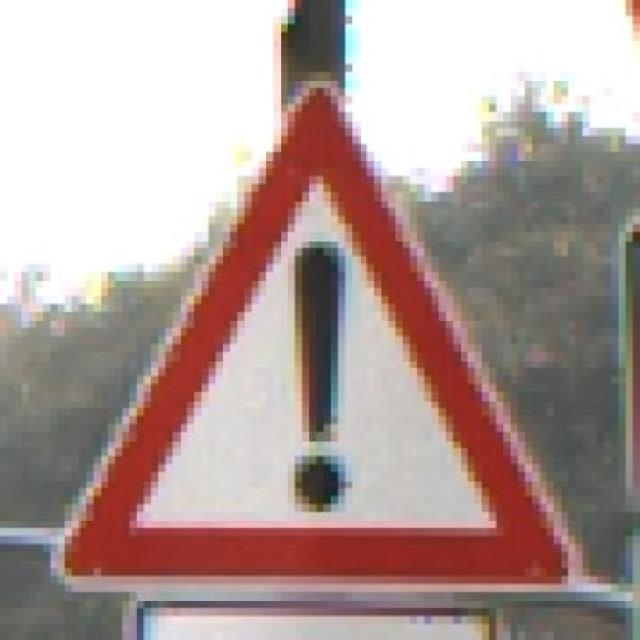Attention Please-: (43, 88, 589, 600)
